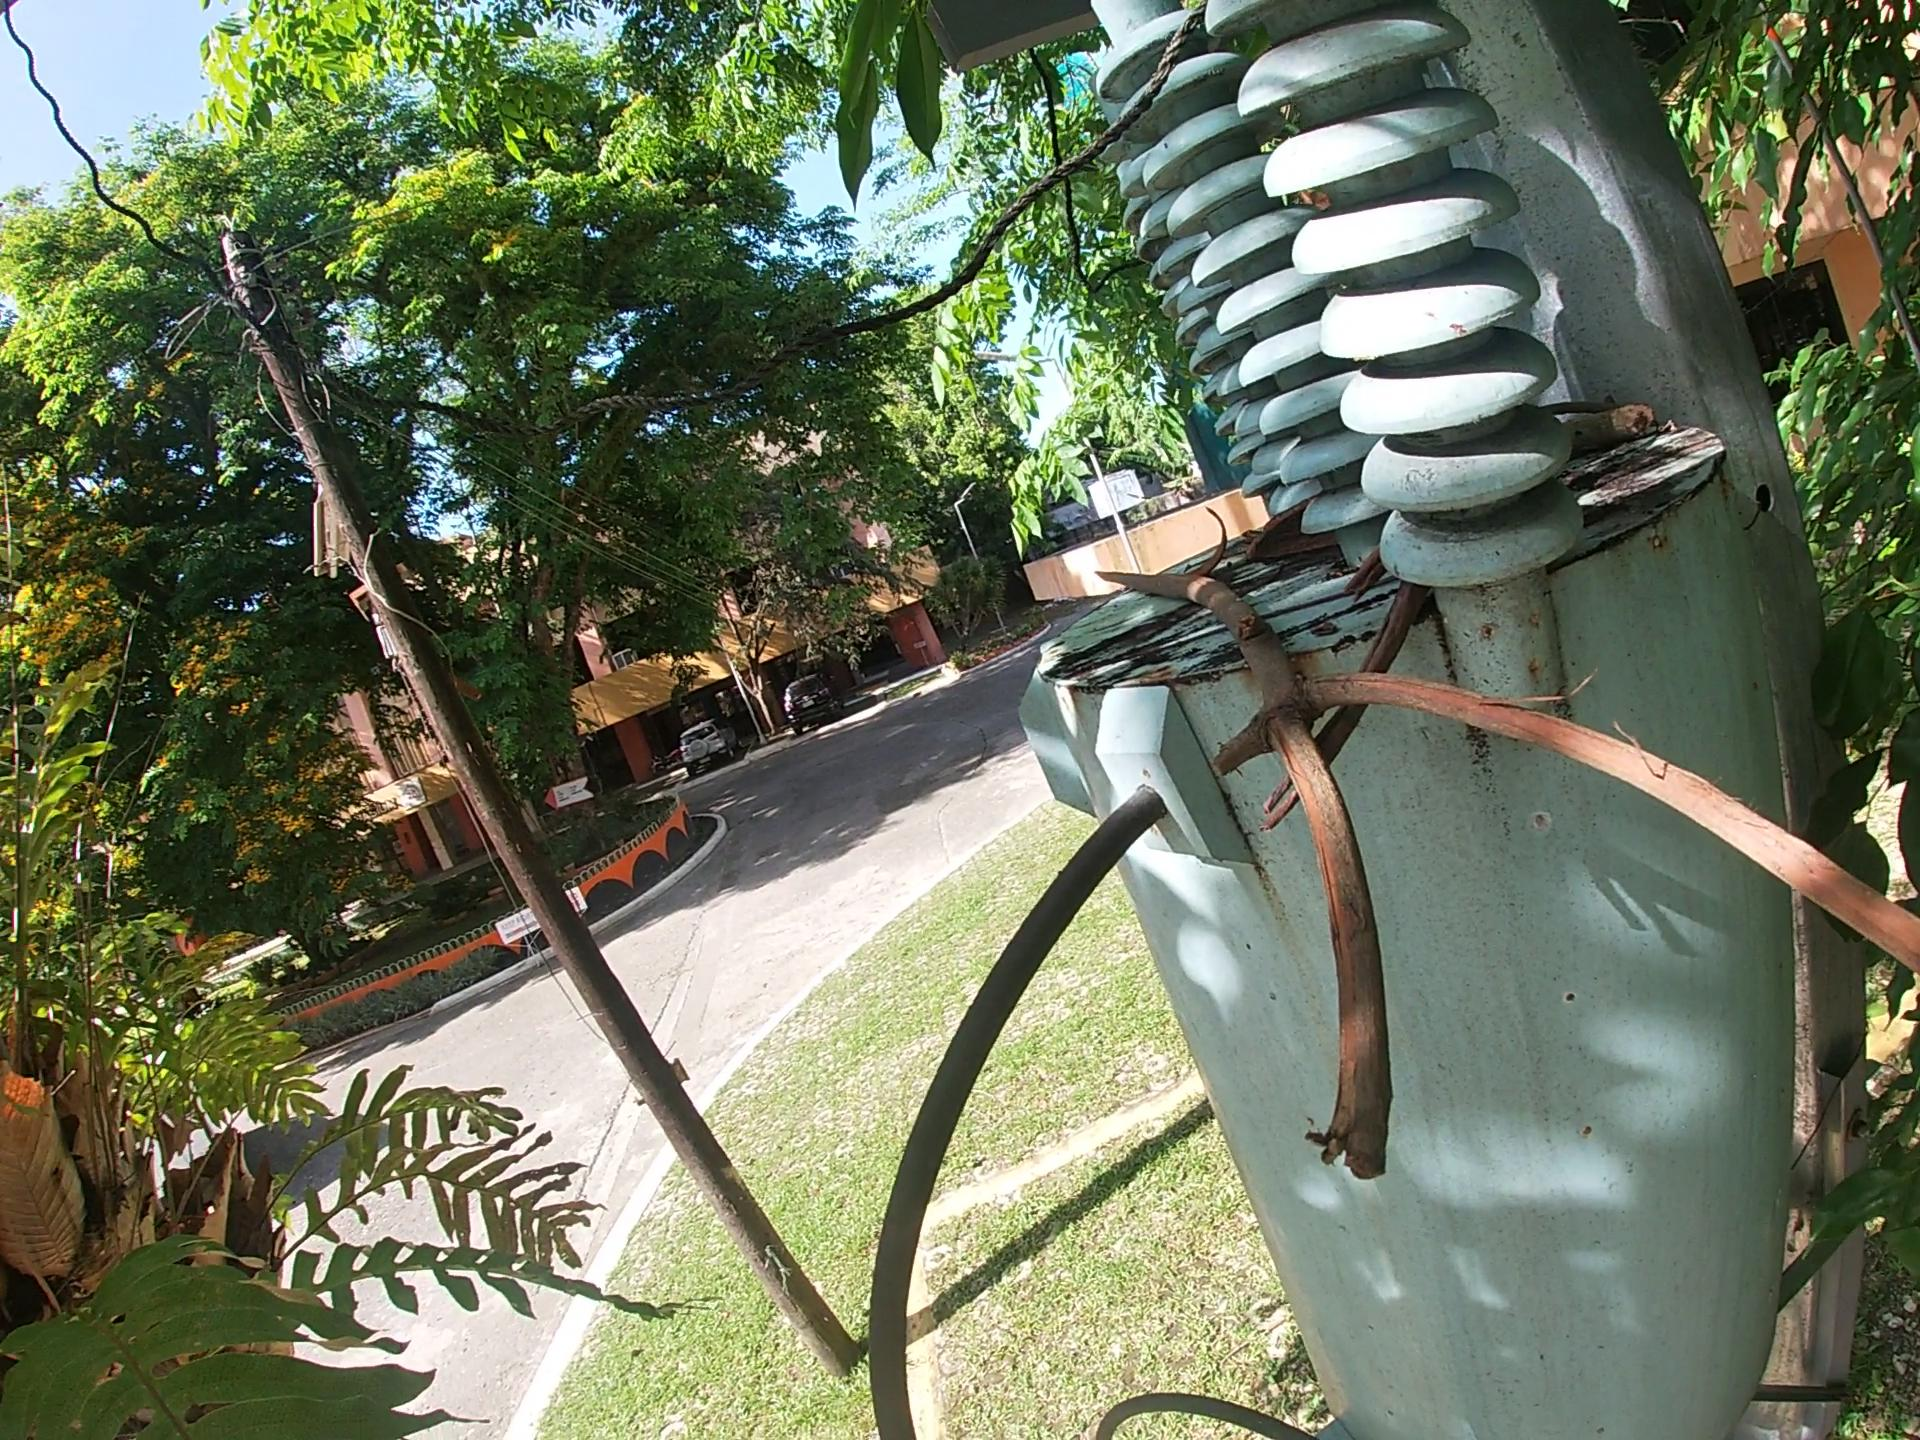mahogany fruit: (1240, 489, 1346, 569), (1185, 504, 1234, 578)
tree branch: (1092, 567, 1920, 1193), (1252, 542, 1435, 843), (1554, 390, 1658, 461)
